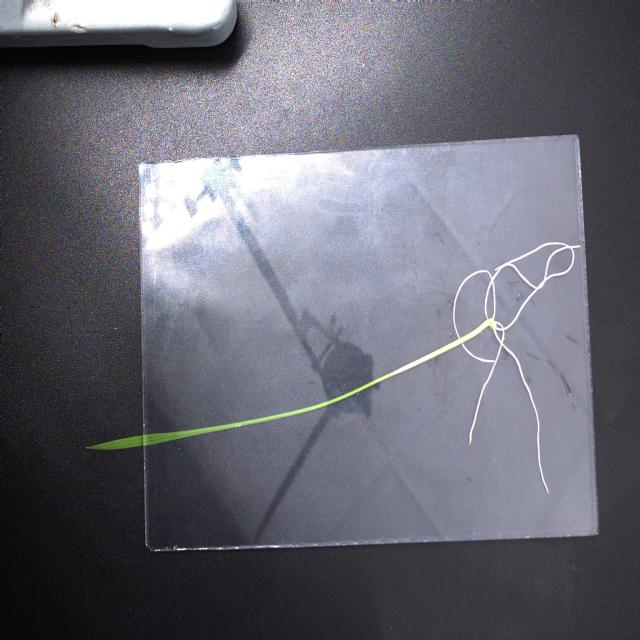leaf: (86, 425, 236, 450)
root: (462, 242, 580, 492), (451, 265, 497, 334)
stem: (232, 320, 494, 428)
